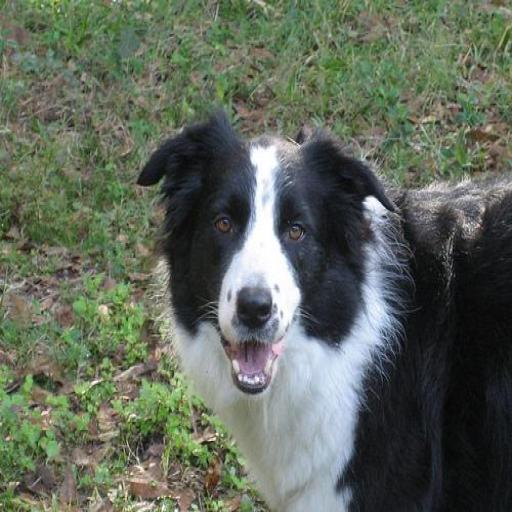dog_face: (147, 123, 388, 386)
